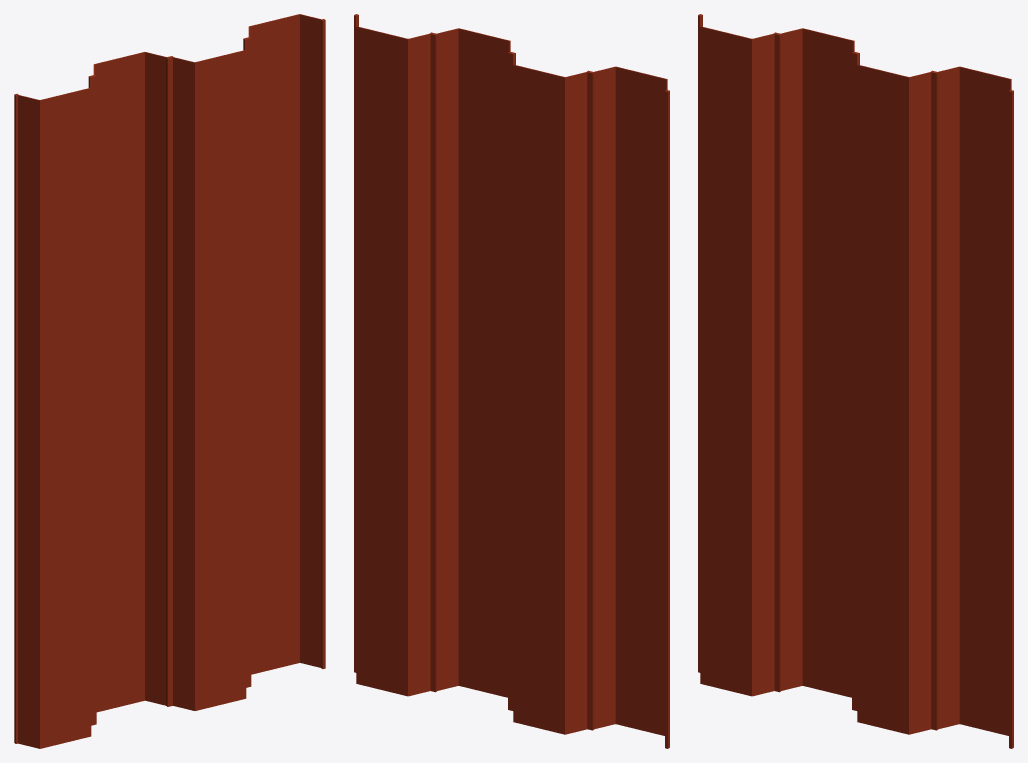
Rendered from E-Spundbohle-3m_dae.dae.
3 views of the same model, side by side, from view 1: azimuth 30°, elevation 25°; view 2: azimuth 150°, elevation 25°; view 3: azimuth 330°, elevation 25° (orthographic).
Visible parts, largest first — view 1: 32yOTpy9fFWvl4XC9R2ToC, 32yOTpy9fFWvl4XC9R2ToF, 32yOTpy9fFWvl4XC9R2ToD, 32yOTpy9fFWvl4XC9R2ToE; view 2: 32yOTpy9fFWvl4XC9R2ToC, 32yOTpy9fFWvl4XC9R2ToE, 32yOTpy9fFWvl4XC9R2ToD, 32yOTpy9fFWvl4XC9R2ToF; view 3: 32yOTpy9fFWvl4XC9R2ToF, 32yOTpy9fFWvl4XC9R2ToD, 32yOTpy9fFWvl4XC9R2ToE, 32yOTpy9fFWvl4XC9R2ToC.
Boxes of the visible parts, x1=… form: 32yOTpy9fFWvl4XC9R2ToC: x1=14, y1=75, x2=93, y2=748; 32yOTpy9fFWvl4XC9R2ToF: x1=247, y1=14, x2=325, y2=687; 32yOTpy9fFWvl4XC9R2ToD: x1=92, y1=52, x2=170, y2=724; 32yOTpy9fFWvl4XC9R2ToE: x1=169, y1=38, x2=248, y2=710; 32yOTpy9fFWvl4XC9R2ToC: x1=589, y1=66, x2=669, y2=748; 32yOTpy9fFWvl4XC9R2ToE: x1=432, y1=28, x2=512, y2=710; 32yOTpy9fFWvl4XC9R2ToD: x1=511, y1=52, x2=590, y2=734; 32yOTpy9fFWvl4XC9R2ToF: x1=354, y1=14, x2=433, y2=696; 32yOTpy9fFWvl4XC9R2ToF: x1=933, y1=66, x2=1013, y2=748; 32yOTpy9fFWvl4XC9R2ToD: x1=776, y1=28, x2=856, y2=710; 32yOTpy9fFWvl4XC9R2ToE: x1=855, y1=52, x2=934, y2=734; 32yOTpy9fFWvl4XC9R2ToC: x1=698, y1=14, x2=777, y2=696.
Bounding box in the file's own units: 3 × 0.4 × 6.
